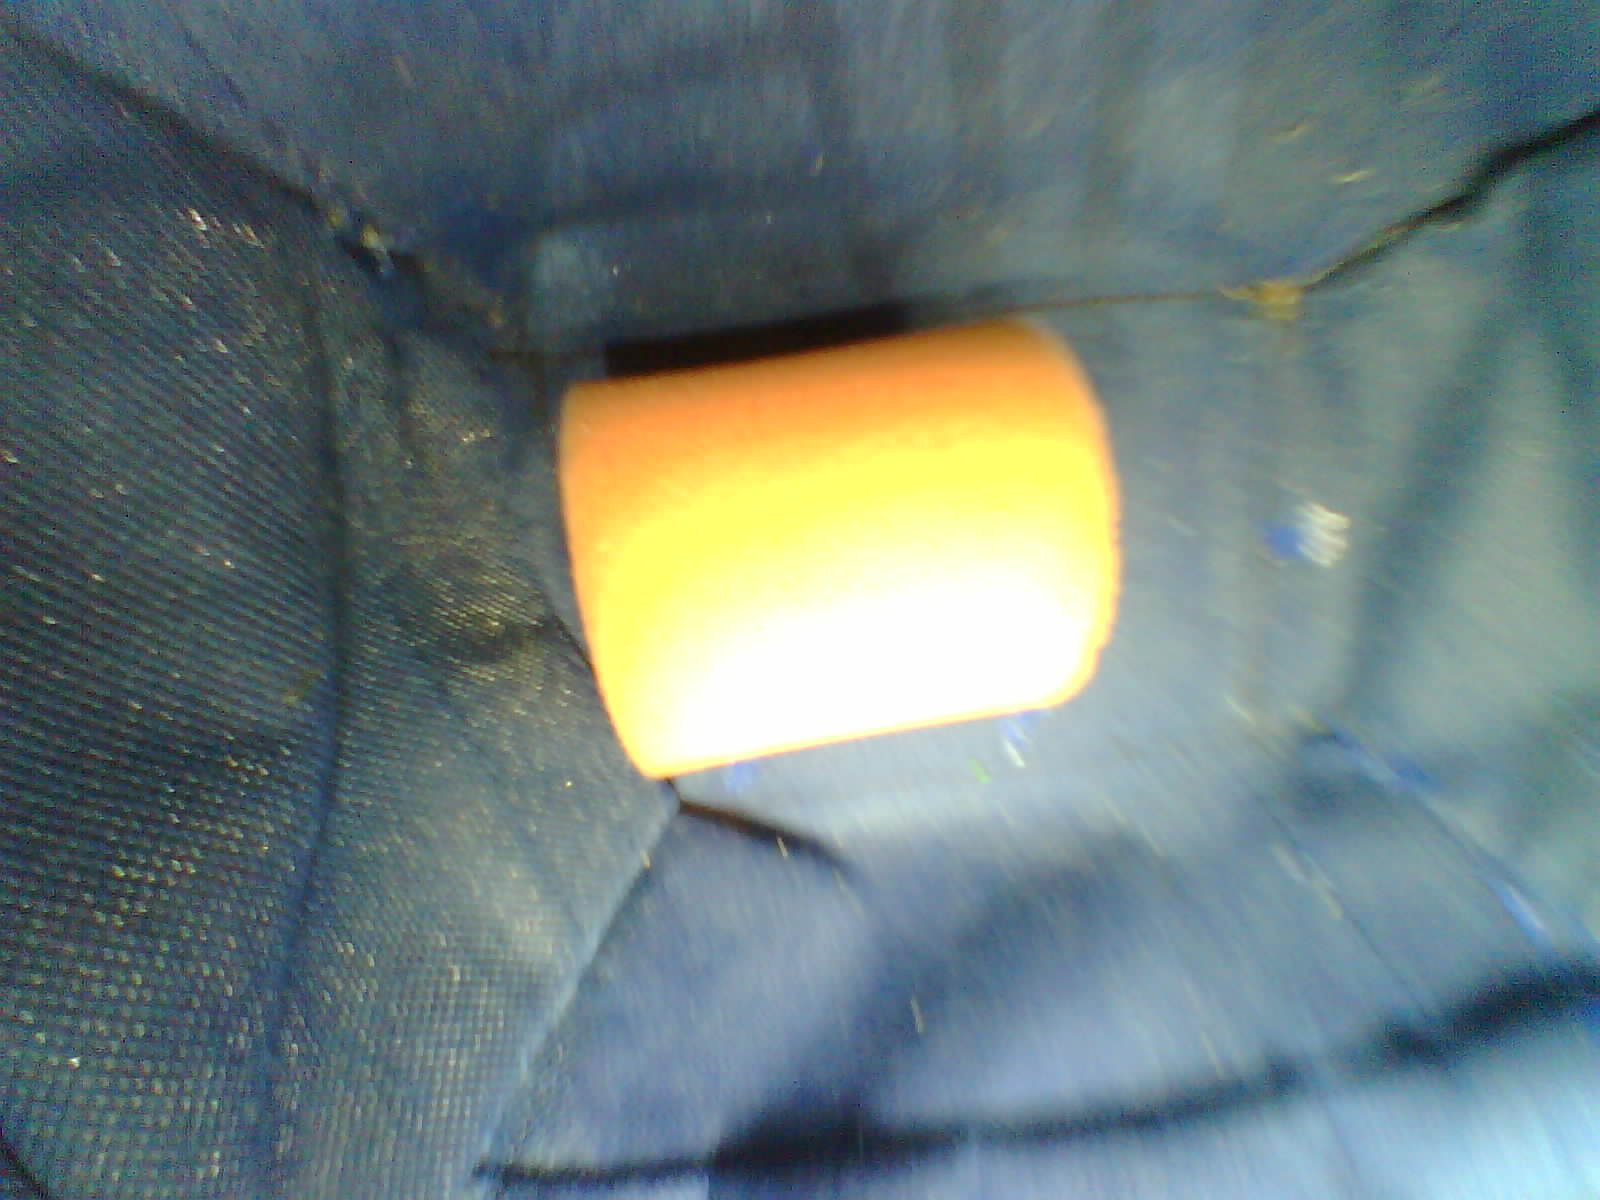cylinder-soft: (542, 304, 1133, 804)
